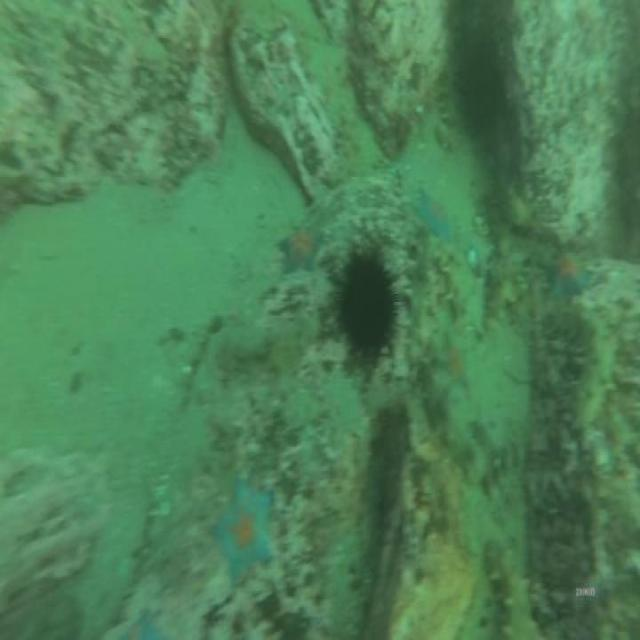echinus: (322, 218, 412, 379), (446, 27, 506, 134)
starfish: (212, 474, 278, 583), (542, 246, 595, 304), (276, 226, 326, 277), (418, 185, 452, 243)
